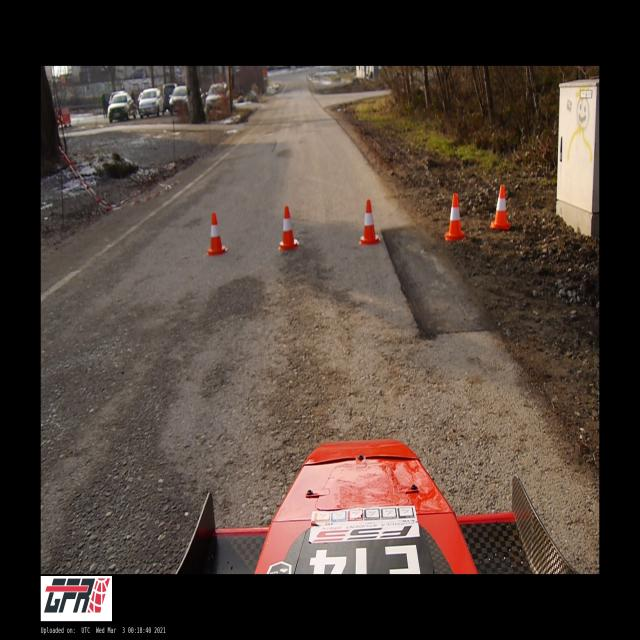orange_cone: (358, 200, 381, 245), (205, 212, 228, 256), (278, 205, 300, 250), (444, 193, 465, 240), (490, 184, 511, 230)
